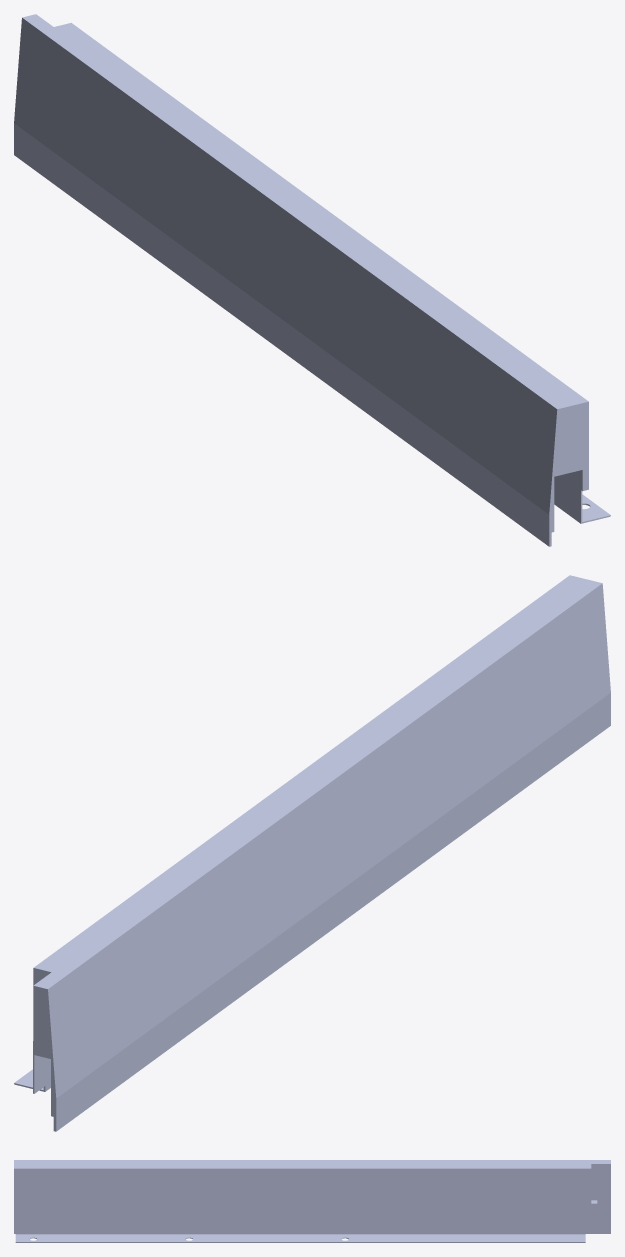
File: mv-kava-N500-p.glb
The picture shows the model from 3 angles, top to bottom: view 1: azimuth 30°, elevation 25°; view 2: azimuth 150°, elevation 25°; view 3: azimuth 270°, elevation 25°; orthographic projection. The views are drawn at different scales.
Parts seen in each view (by area): view 1: 47495985; view 2: 47495985; view 3: 47495985.
Part boxes in pixels (left/top/right/bottom): 47495985: left=14, top=14, right=610, bottom=546; 47495985: left=14, top=575, right=610, bottom=1131; 47495985: left=14, top=1160, right=610, bottom=1242.
Size of the model in its own units: 0.0335 by 0.0685 by 0.4902.
